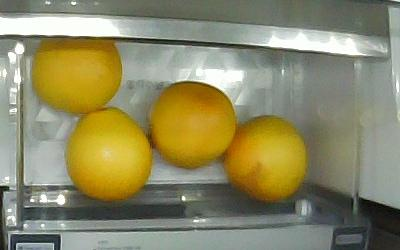grapefruit: (65, 107, 152, 201), (148, 81, 236, 168), (223, 115, 307, 202), (31, 38, 122, 113)
